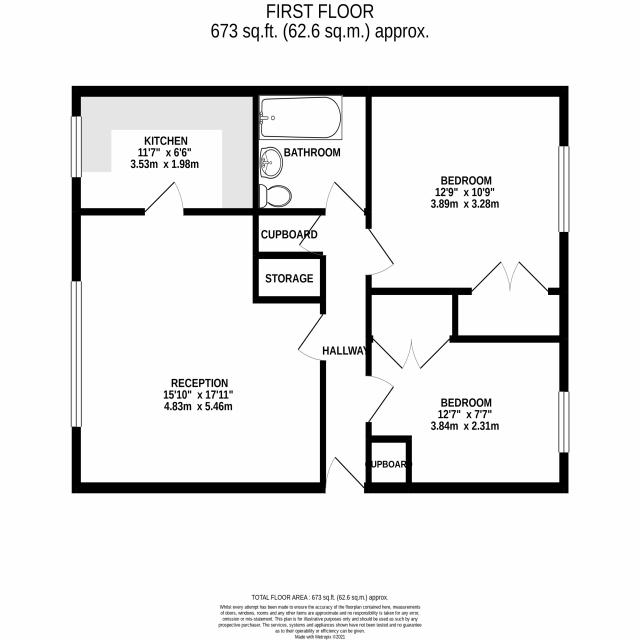DOOR: (324, 455, 365, 494), (365, 227, 396, 277), (296, 313, 327, 362), (144, 180, 185, 216), (365, 375, 395, 423), (325, 180, 365, 216), (298, 215, 327, 258)
DOUBLE DOOR: (471, 258, 550, 296)
ROOM: (71, 179, 326, 494), (365, 85, 570, 296), (365, 287, 569, 494), (71, 86, 259, 216)
WINDOW: (70, 280, 82, 428), (558, 145, 570, 233), (558, 391, 570, 454), (70, 116, 82, 178)
